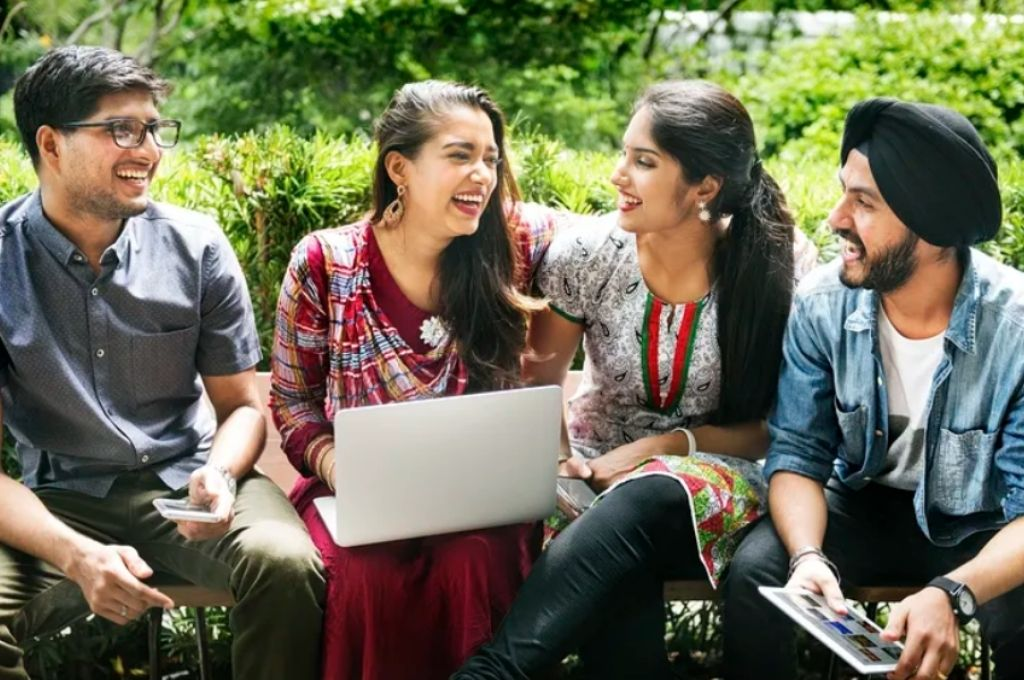men: (818, 91, 1004, 319), (15, 46, 186, 229)
women: (576, 81, 767, 266), (341, 75, 528, 255)
